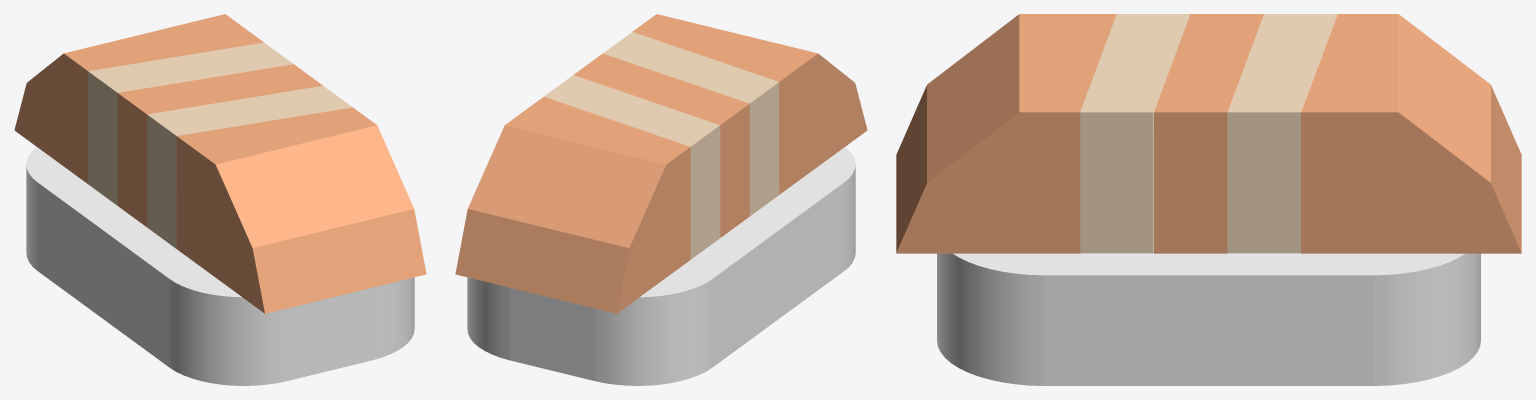
Rendered from sushi.gltf.
3 renders of one model, left to right at view 1: azimuth 30°, elevation 25°; view 2: azimuth 150°, elevation 25°; view 3: azimuth 270°, elevation 25°, orthographic. The views are drawn at different scales.
Parts seen in each view (by area): view 1: Mesh_salmon, sushiSalmon, Mesh_salmon_1; view 2: Mesh_salmon, sushiSalmon, Mesh_salmon_1; view 3: Mesh_salmon, sushiSalmon, Mesh_salmon_1.
Part boxes in pixels (x1,y1,x2,y2): Mesh_salmon: (14, 14, 426, 313); sushiSalmon: (26, 147, 414, 385); Mesh_salmon_1: (88, 42, 352, 248); Mesh_salmon: (455, 14, 867, 313); sushiSalmon: (467, 147, 855, 385); Mesh_salmon_1: (544, 32, 779, 259); Mesh_salmon: (896, 14, 1521, 253); sushiSalmon: (937, 133, 1480, 385); Mesh_salmon_1: (1080, 14, 1337, 253).
Bounding box in the file's own units: 0.1079 × 0.0892 × 0.2008.
